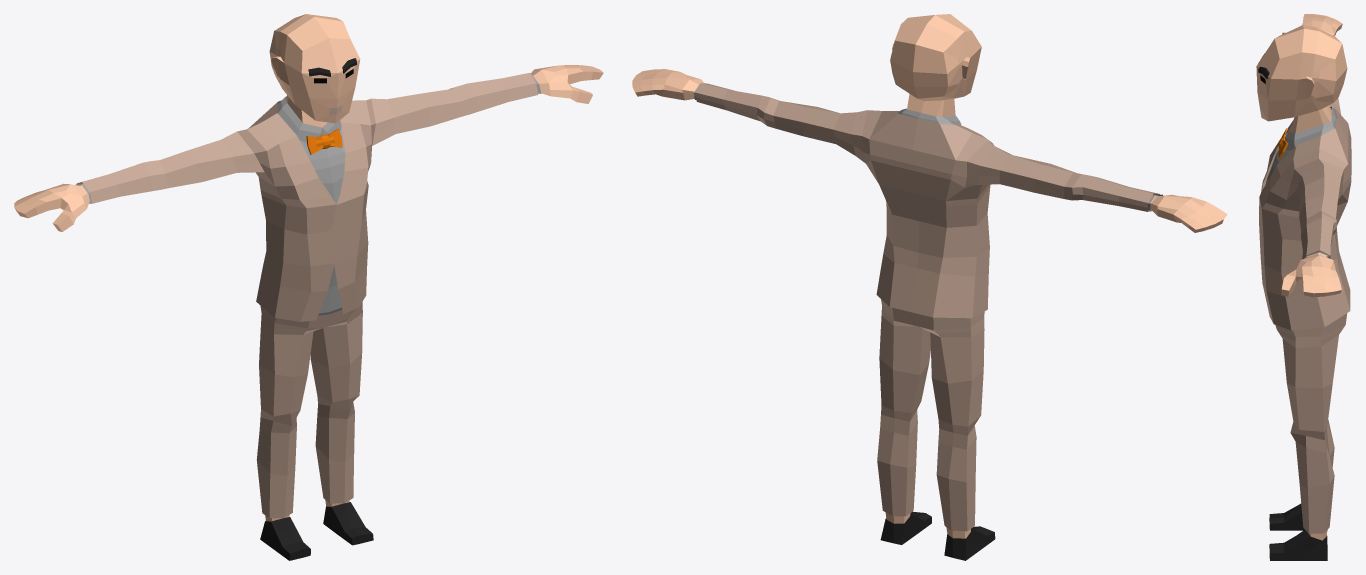
Rendered from NPC_TrajeCaqui_Escenario2_Pajarita.fbx.
The picture shows the model from 3 angles, left to right: view 1: azimuth 30°, elevation 25°; view 2: azimuth 150°, elevation 25°; view 3: azimuth 270°, elevation 25°; orthographic projection. The views are drawn at different scales.
Parts seen in each view (by area): view 1: Personaje; view 2: Personaje; view 3: Personaje.
Boxes of the visible parts, box(x1,y1,x2,y2) form: Personaje: box(14, 14, 603, 560); Personaje: box(632, 14, 1227, 560); Personaje: box(1256, 14, 1351, 560).
Size of the model in its own units: 215 by 184 by 30.94.
